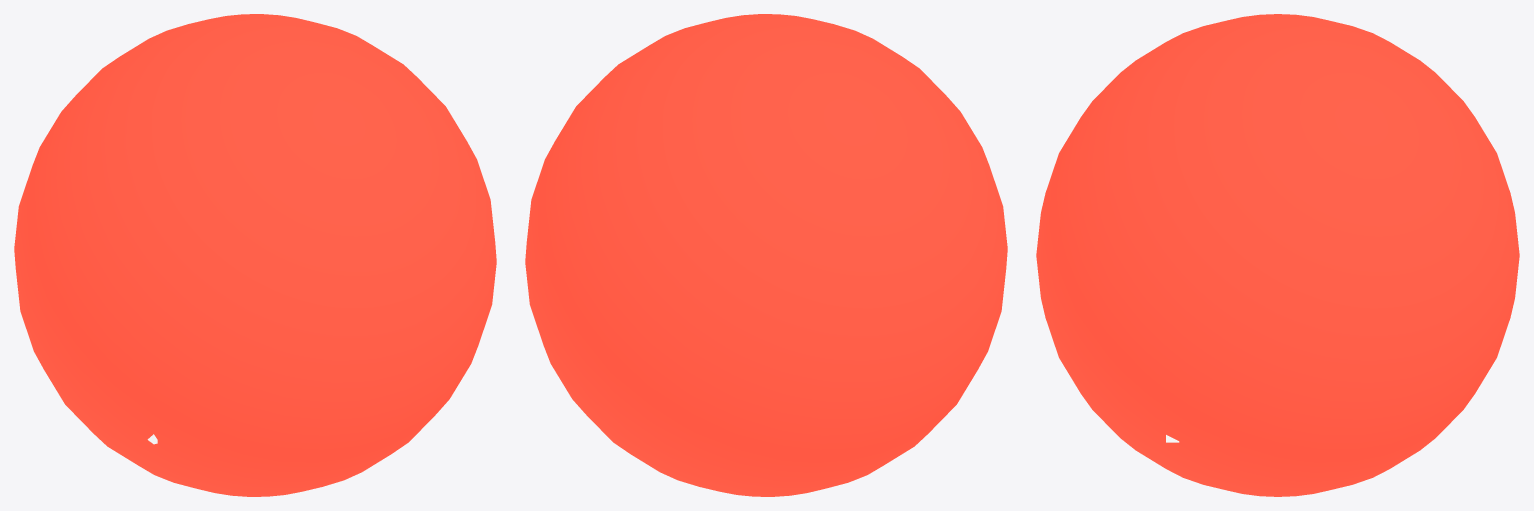
File: poluicao-do-ar.glb
3 views of the same model, side by side, from view 1: azimuth 30°, elevation 25°; view 2: azimuth 150°, elevation 25°; view 3: azimuth 270°, elevation 25° (orthographic).
Visible parts, largest first — view 1: Sphere.017; view 2: Sphere.017; view 3: Sphere.017.
Boxes of the visible parts, x1=… form: Sphere.017: x1=14, y1=14, x2=496, y2=496; Sphere.017: x1=525, y1=14, x2=1007, y2=496; Sphere.017: x1=1036, y1=14, x2=1519, y2=496.
Size of the model in its own units: 5.15 by 5.15 by 5.15.
